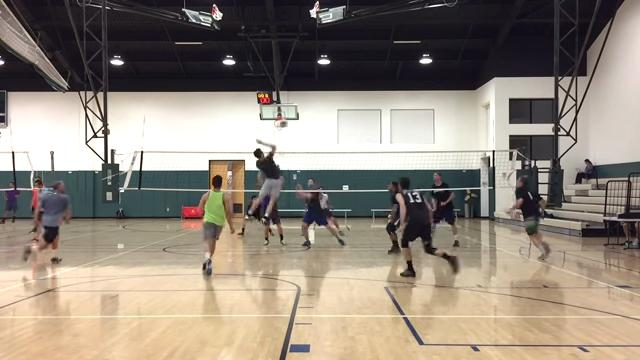Attack: (243, 135, 285, 227)
Player: (396, 177, 458, 276), (23, 181, 70, 263), (199, 175, 234, 274), (513, 176, 550, 259), (296, 184, 344, 247), (432, 173, 459, 246), (320, 192, 344, 235), (386, 181, 400, 253), (263, 202, 285, 245), (238, 219, 246, 235)
ball: (281, 121, 289, 130)
